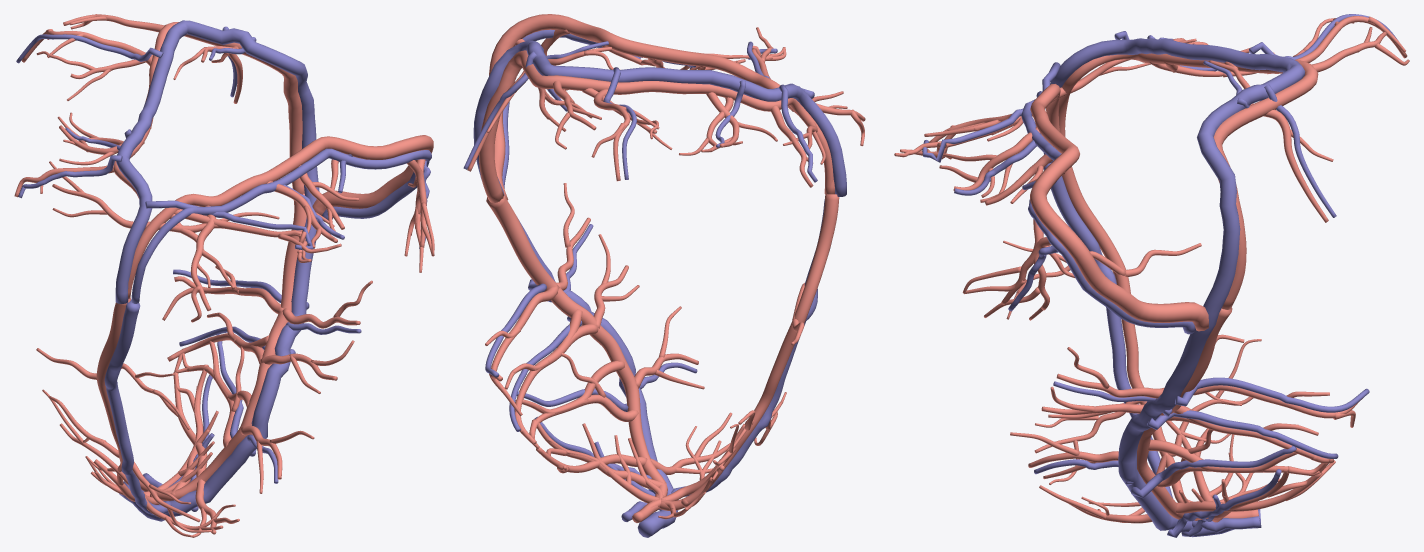
The model's file is vessels_45.glb.
The picture shows the model from 3 angles, left to right: view 1: azimuth 30°, elevation 25°; view 2: azimuth 150°, elevation 25°; view 3: azimuth 270°, elevation 25°; orthographic projection. The views are drawn at different scales.
Parts seen in each view (by area): view 1: Renderer Node; view 2: Renderer Node; view 3: Renderer Node.
Part boxes in pixels (x1,y1,x2,y2): Renderer Node: [14, 14, 434, 537]; Renderer Node: [463, 14, 865, 537]; Renderer Node: [894, 14, 1409, 537].
Bounding box in the file's own units: 95.37 × 114 × 104.
